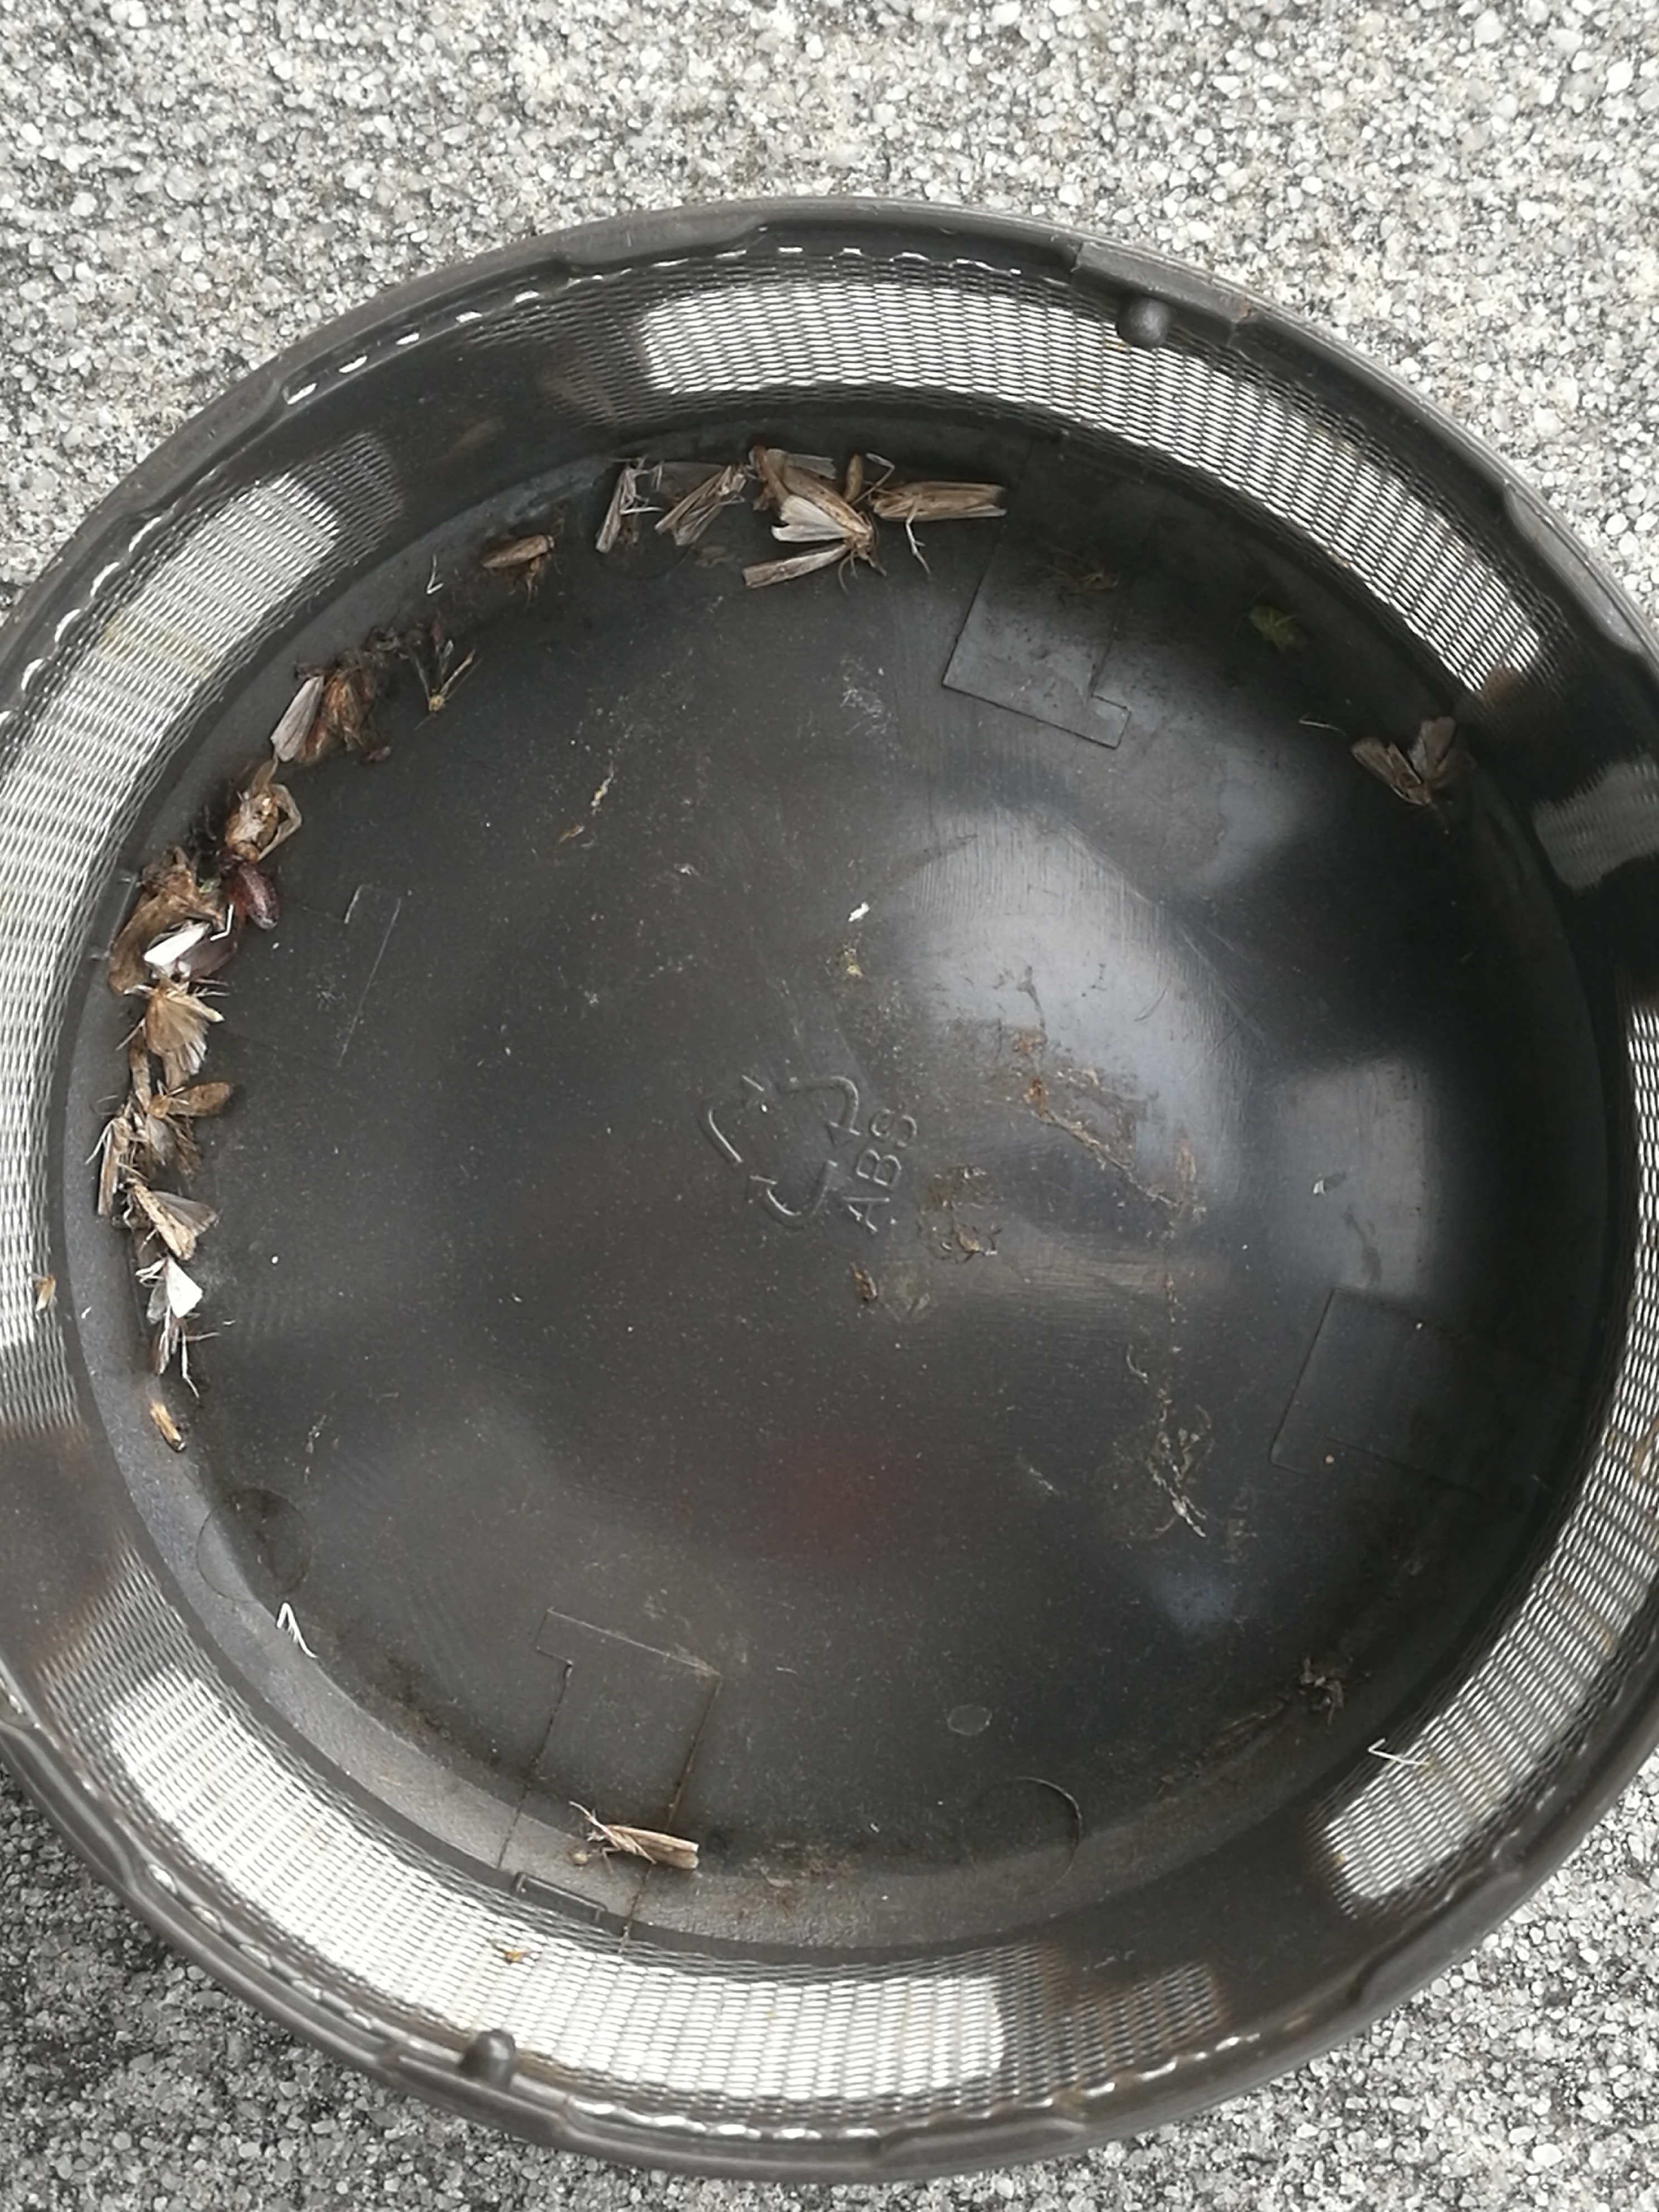beetle: (216, 852, 279, 932)
mosquito: (657, 465, 748, 547), (870, 482, 1007, 523), (742, 540, 847, 589), (589, 1827, 699, 1869), (598, 458, 645, 550), (98, 1106, 131, 1216), (481, 535, 554, 566), (152, 1402, 185, 1453), (150, 1315, 171, 1378)
moth: (1351, 718, 1457, 806), (772, 469, 873, 557), (145, 984, 225, 1092), (120, 1179, 220, 1259), (749, 448, 835, 507), (307, 671, 361, 761), (145, 1252, 202, 1320)
